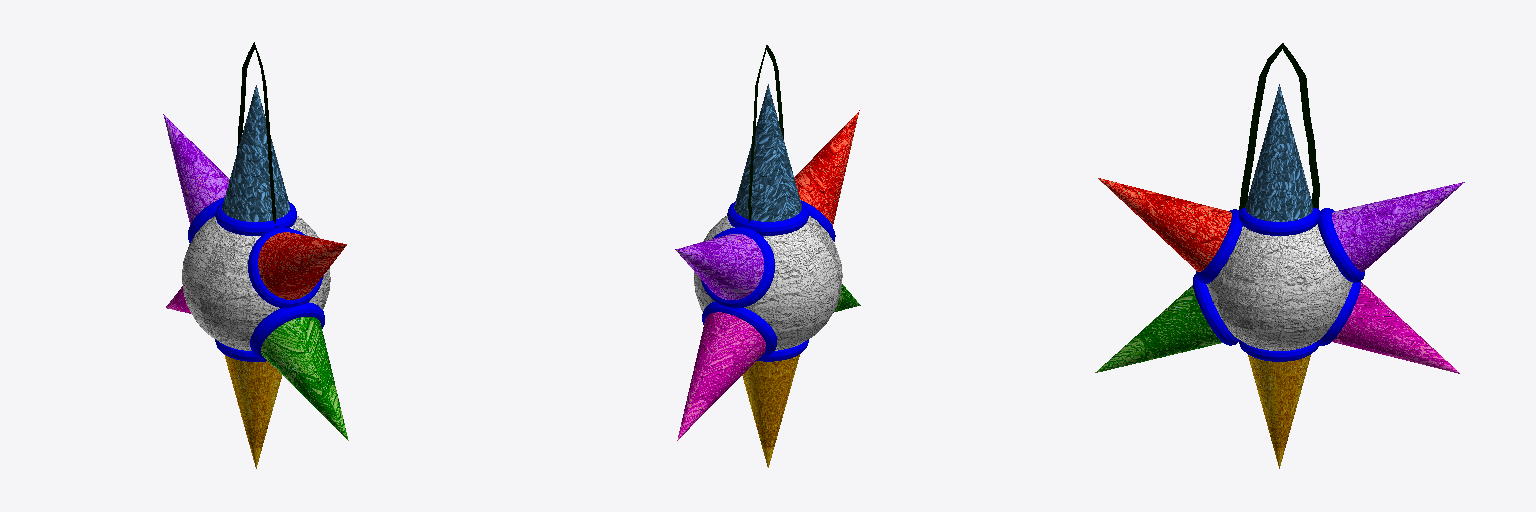
3 views of the same model, side by side, from view 1: azimuth 30°, elevation 25°; view 2: azimuth 150°, elevation 25°; view 3: azimuth 270°, elevation 25° (orthographic).
Visible parts, largest first — view 1: Sphere, Cone.003, Cone, Cone.002, Cone.001, Cone.004, Torus.004_Torus.005, Torus.003_Torus.004, Torus.005_Torus.006, Plane; view 2: Sphere, Cone.005, Cone, Cone.004, Cone.001, Cone.002, Torus.002_Torus.003, Torus.005_Torus.006, Torus.000_Torus.002, Plane; view 3: Sphere, Cone, Cone.002, Cone.004, Cone.005, Cone.003, Cone.001, Plane, Torus.002_Torus.003, Torus.005_Torus.006, Torus.004_Torus.005, Torus.003_Torus.004 (+2 smaller).
Boxes of the visible parts, box(x1,y1,x2,y2) form: Sphere: box(182, 216, 330, 350); Cone.003: box(254, 317, 348, 440); Cone: box(222, 85, 289, 221); Cone.002: box(258, 232, 346, 299); Cone.001: box(224, 354, 281, 468); Cone.004: box(163, 114, 229, 224); Torus.004_Torus.005: box(248, 228, 322, 308); Torus.003_Torus.004: box(250, 302, 324, 359); Torus.005_Torus.006: box(215, 201, 296, 235); Plane: box(237, 42, 276, 227); Sphere: box(694, 216, 842, 350); Cone.005: box(677, 312, 765, 440); Cone: box(734, 84, 801, 221); Cone.004: box(675, 234, 763, 299); Cone.001: box(742, 354, 799, 467); Cone.002: box(794, 110, 859, 225); Torus.002_Torus.003: box(701, 227, 774, 308); Torus.005_Torus.006: box(727, 201, 808, 235); Torus.000_Torus.002: box(702, 302, 776, 357); Plane: box(748, 45, 783, 222); Sphere: box(1206, 224, 1352, 350); Cone: box(1245, 84, 1313, 221); Cone.002: box(1098, 178, 1231, 271); Cone.004: box(1332, 182, 1464, 271); Cone.005: box(1332, 282, 1459, 373); Cone.003: box(1095, 285, 1235, 372); Cone.001: box(1248, 355, 1310, 468); Plane: box(1239, 43, 1319, 210); Torus.002_Torus.003: box(1318, 208, 1364, 282); Torus.005_Torus.006: box(1239, 208, 1319, 235); Torus.004_Torus.005: box(1196, 209, 1242, 283); Torus.003_Torus.004: box(1193, 274, 1238, 345).
Size of the model in its own units: 2 by 6.31 by 4.97.
Materials: 9 (9 with a texture image).